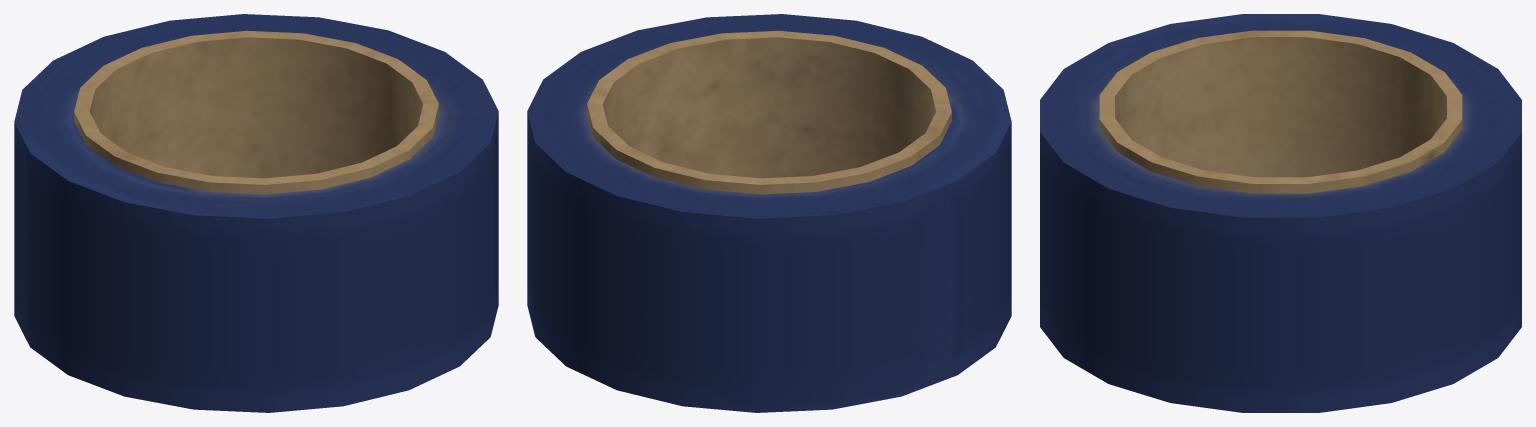
Rendered from SM_BlueTape.fbx.
3 views of the same model, side by side, from view 1: azimuth 30°, elevation 25°; view 2: azimuth 150°, elevation 25°; view 3: azimuth 270°, elevation 25° (orthographic).
Parts seen in each view (by area): view 1: SM_BlueTape_LOD0; view 2: SM_BlueTape_LOD0; view 3: SM_BlueTape_LOD0.
Part boxes in pixels (box(x1,y1,x2,y2)): SM_BlueTape_LOD0: box(14, 14, 498, 412); SM_BlueTape_LOD0: box(527, 14, 1011, 412); SM_BlueTape_LOD0: box(1040, 14, 1521, 412).
Bounding box in the file's own units: 11.34 × 11.34 × 5.52.
